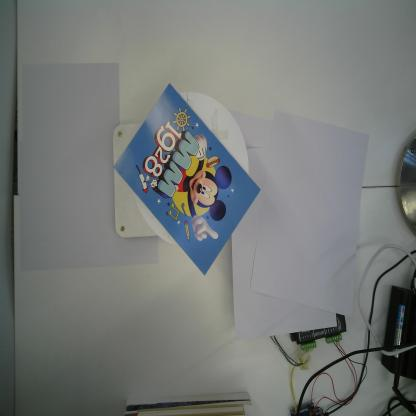Stationery: (109, 79, 263, 278)
